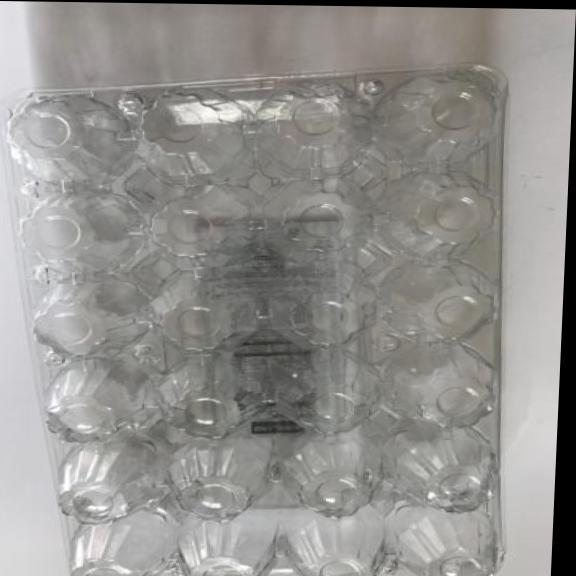Plastik: (0, 51, 516, 576)
